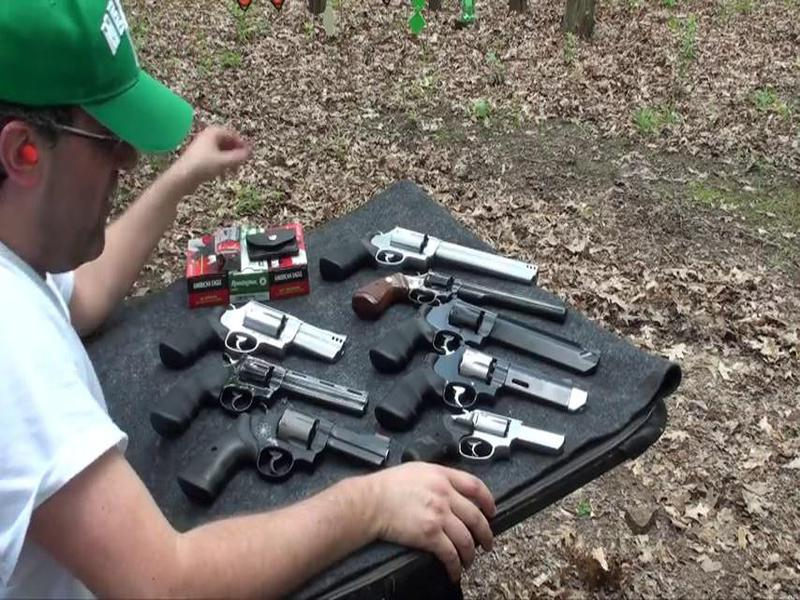Revolver: (335, 264, 583, 334)
